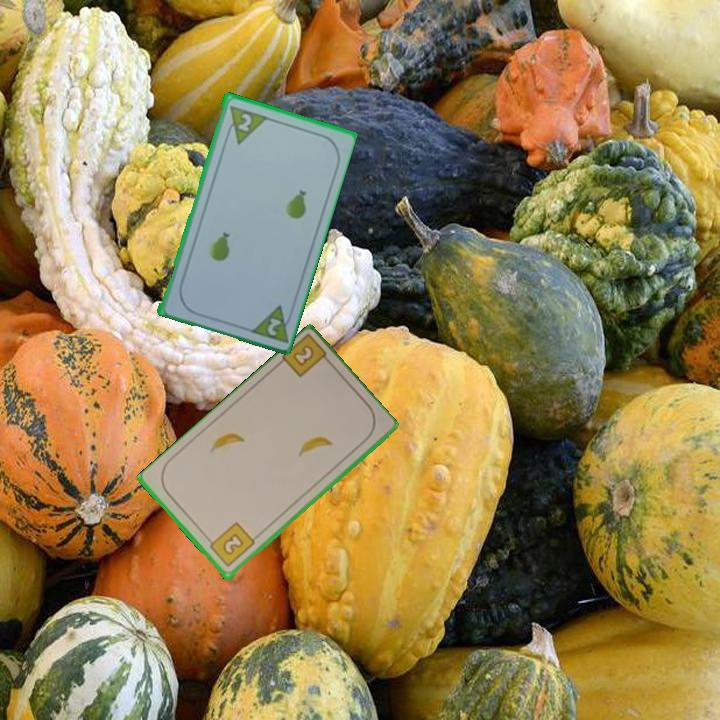2b: (203, 519, 258, 570), (278, 333, 335, 381)
2p: (221, 101, 268, 147), (263, 314, 283, 338)
